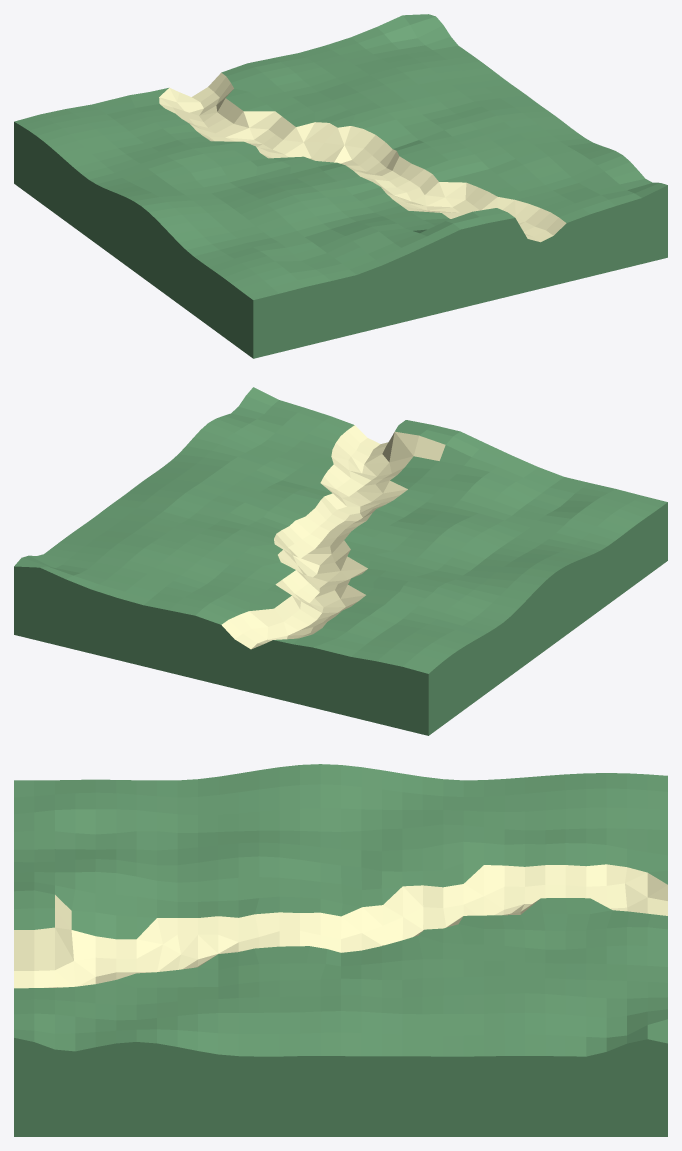
Rendered from WaterGround.fbx.
The picture shows the model from 3 angles, top to bottom: view 1: azimuth 30°, elevation 25°; view 2: azimuth 150°, elevation 25°; view 3: azimuth 270°, elevation 25°; orthographic projection. The views are drawn at different scales.
Visible parts, largest first — view 1: Plane; view 2: Plane; view 3: Plane.
Part boxes in pixels (x1,y1,x2,y2): Plane: [14, 14, 667, 358]; Plane: [14, 387, 667, 735]; Plane: [14, 764, 667, 1136].
Bounding box in the file's own units: 15000 × 2740 × 15000.
